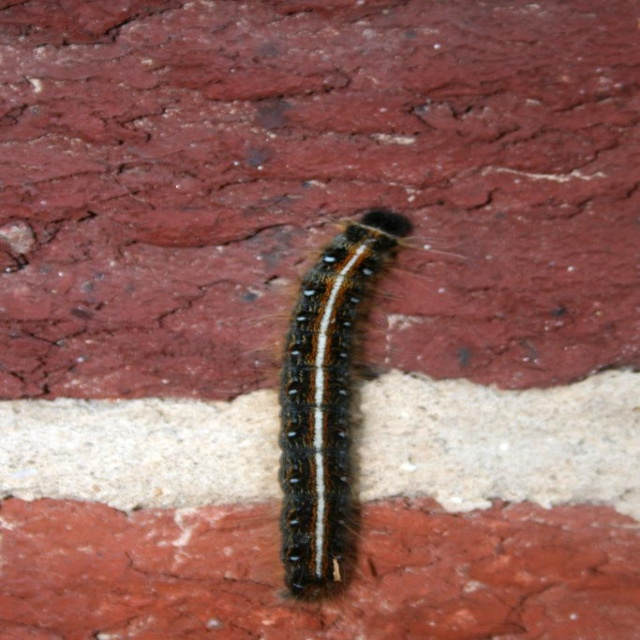Caterpillar: (229, 195, 470, 628)
